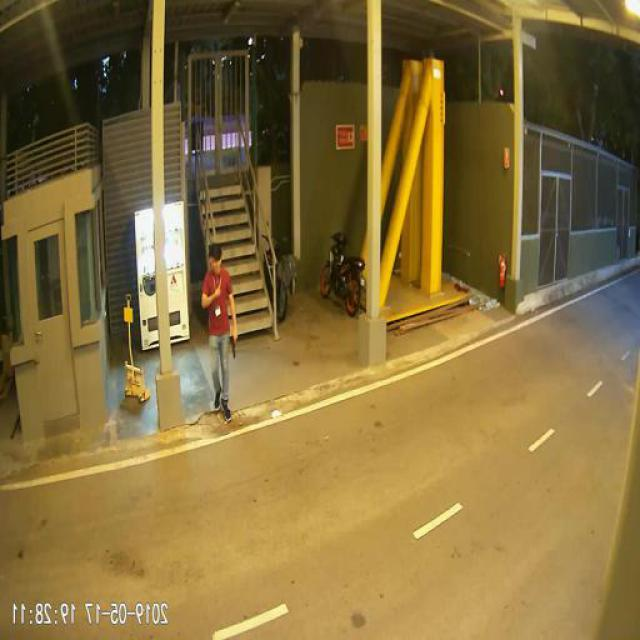Gun: (231, 328, 240, 357)
